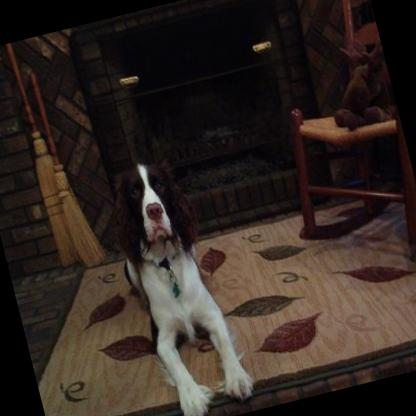English_springer: (92, 143, 264, 416)
